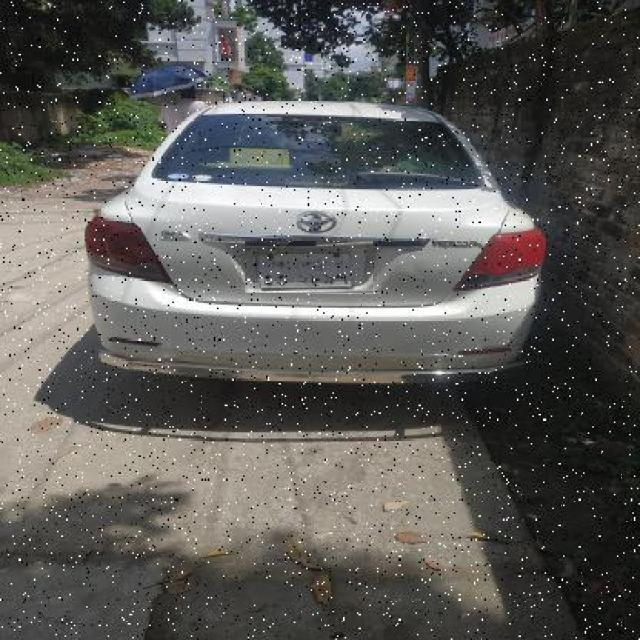numberplate: (245, 241, 373, 293)
